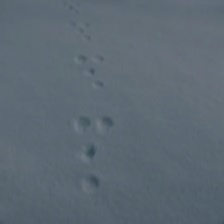rabbit: (69, 114, 116, 198), (72, 52, 109, 91)
